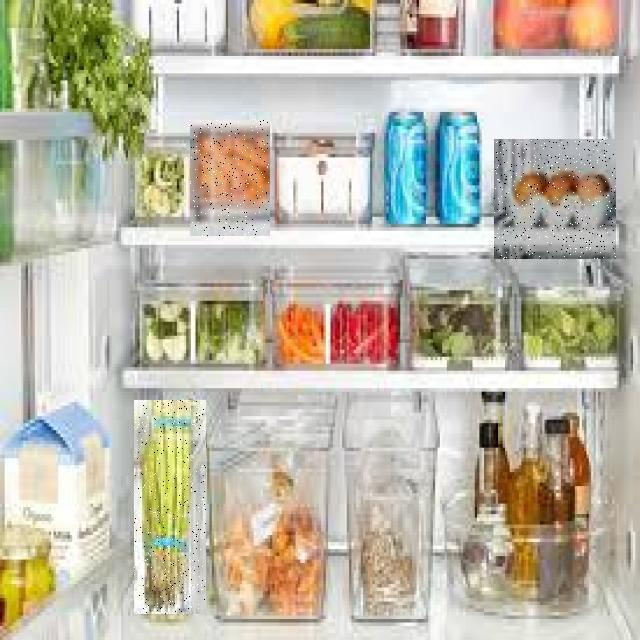Asparagus: (135, 400, 207, 614)
Carrot: (190, 120, 270, 236)
Eggs: (494, 139, 616, 259)
